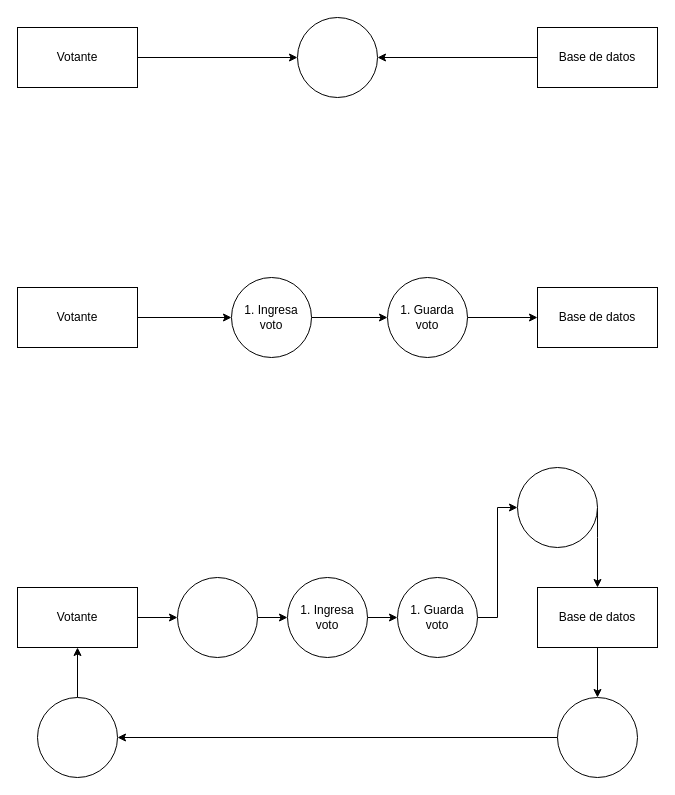
Image size: 675x795. Some labels were removed from this diagram. Here are the shapes that lost their labels. From the top down, the centre of each, then its label:
At point 337,57: "Sistema de votos".
At point 557,507: "2. Registar el voto en el Sistema".
At point 217,617: "2. Inicia sesión".
At point 77,737: "2. Entrega certificado de votacion".
At point 597,737: "2. Calcula porcentaje del voto".
